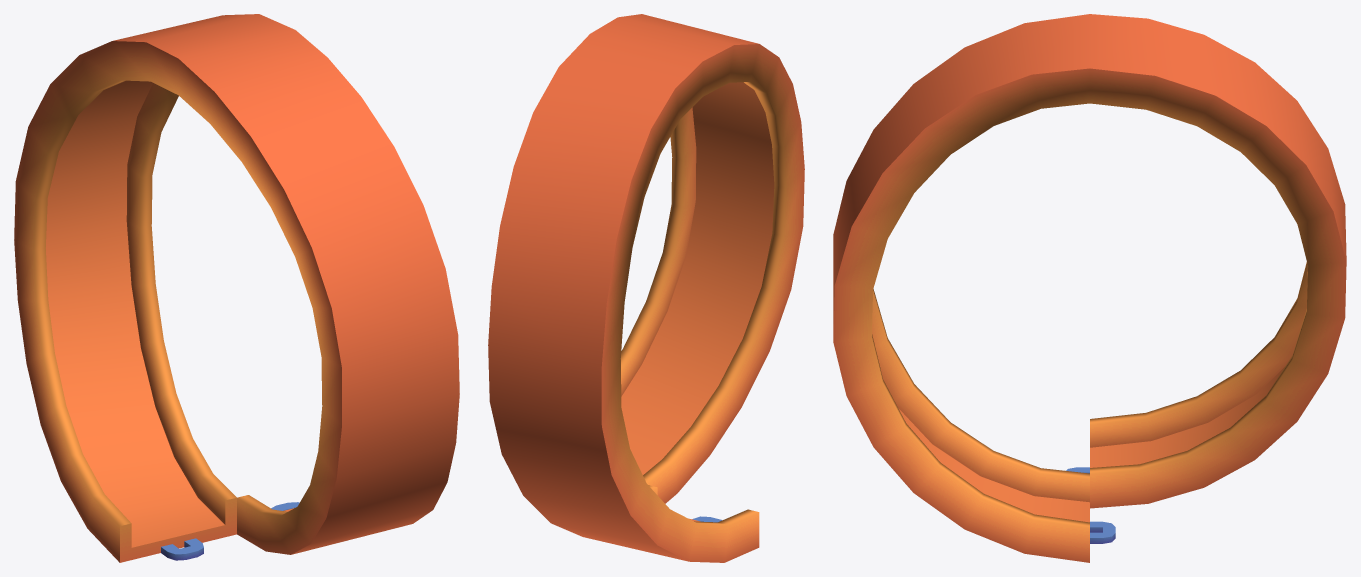
The model's file is track-narrow-looping.glb.
3 views of the same model, side by side, from view 1: azimuth 30°, elevation 25°; view 2: azimuth 150°, elevation 25°; view 3: azimuth 270°, elevation 25° (orthographic). The views are drawn at different scales.
Parts seen in each view (by area): view 1: track-narrow-looping; view 2: track-narrow-looping; view 3: track-narrow-looping.
Part boxes in pixels (x1,y1,x2,y2): track-narrow-looping: [14, 14, 459, 562]; track-narrow-looping: [488, 14, 804, 562]; track-narrow-looping: [833, 14, 1346, 562].
Bounding box in the file's own units: 2 × 4 × 3.98.
1 material, 1 textured.
